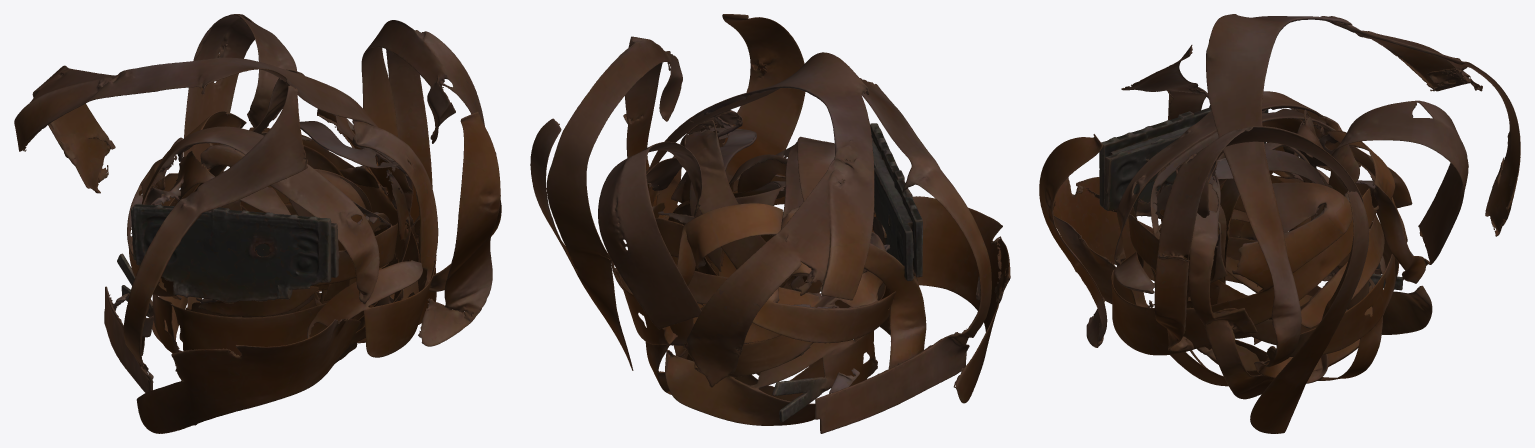
The model's file is cassette_tape.glb.
3 renders of one model, left to right at view 1: azimuth 30°, elevation 25°; view 2: azimuth 150°, elevation 25°; view 3: azimuth 270°, elevation 25°, orthographic.
Visible parts, largest first — view 1: world; view 2: world; view 3: world.
Boxes of the visible parts, x1,y1,x2,y2 form: world: (14,14,501,433); world: (530,14,1010,433); world: (1039,14,1520,433).
Bounding box in the file's own units: 0.9 × 0.7588 × 1.
Materials: 1 (1 with a texture image).
